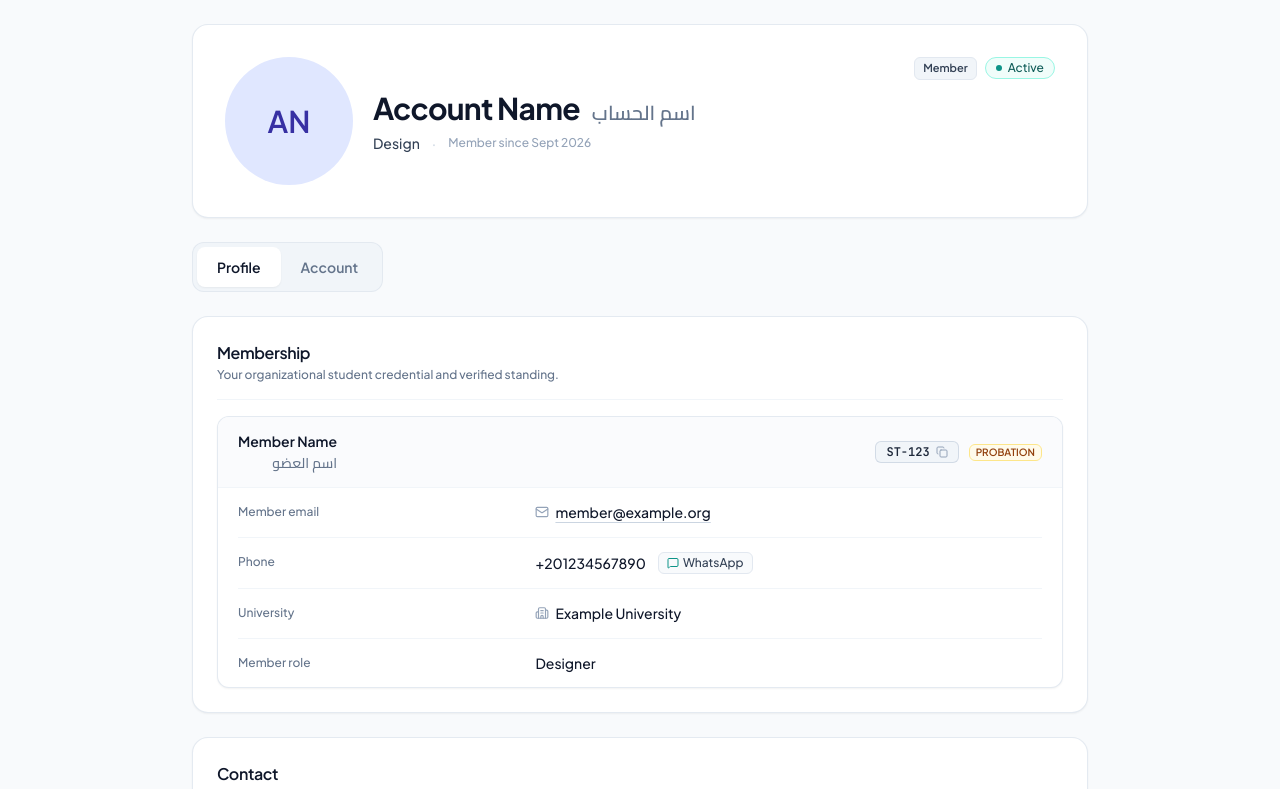
Test: ProfilePage account visibility › provides tactile copy feedback when copying the student code
Click the button with aria-label "Copy student code".
click(917, 452)  # box [876, 441, 959, 463]
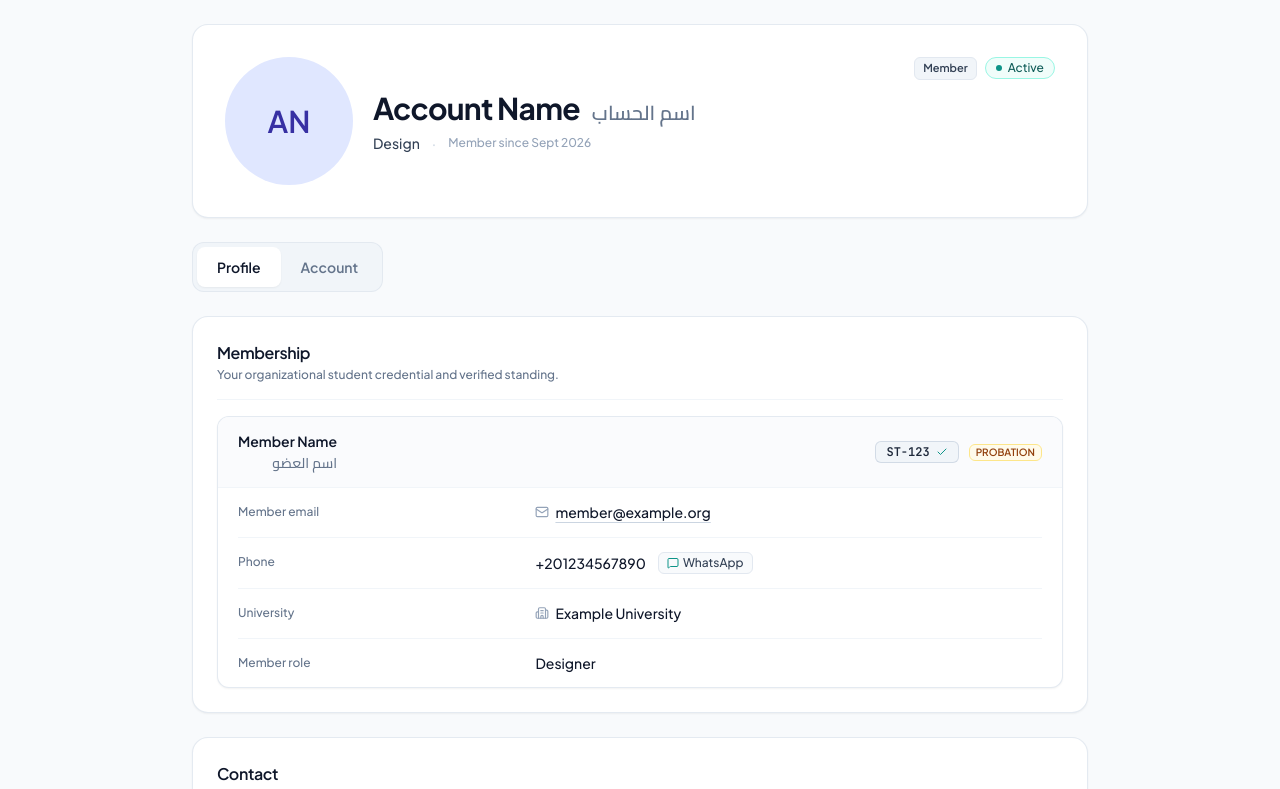
Check: the button with aria-label "Copied student code" is shown, box [876, 441, 959, 463]
